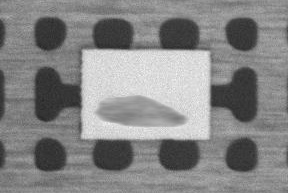DIE_INK: (93, 94, 186, 129)
